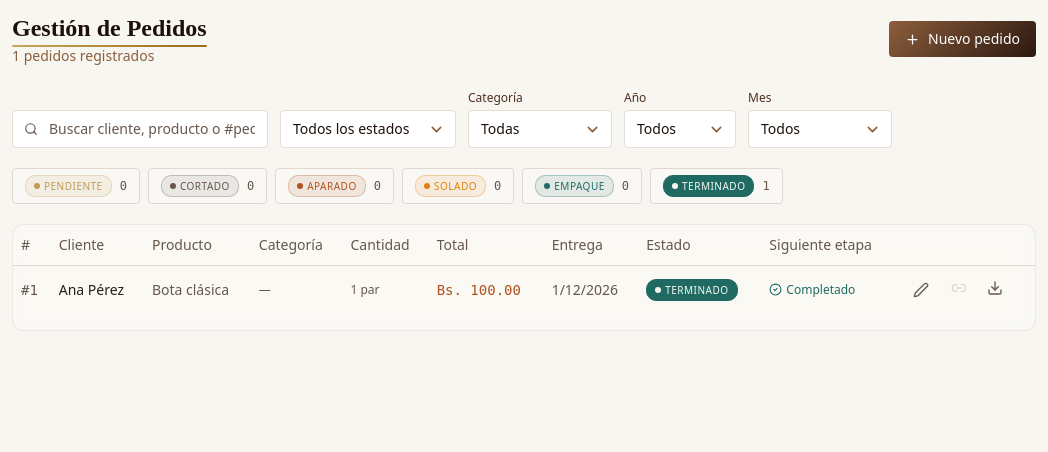
it: PedidosView — filtro por estado › los filtros de fecha por "fecha de entrega" solo aparecen para el estado Terminado
expect the text "#1" is shown: met, box [13,265,51,314]
expect the text "Filtrar por fecha de entrega:" is not shown: met
Click the button "Terminado 1". click: click(716, 186)
box: [650,168,783,204]
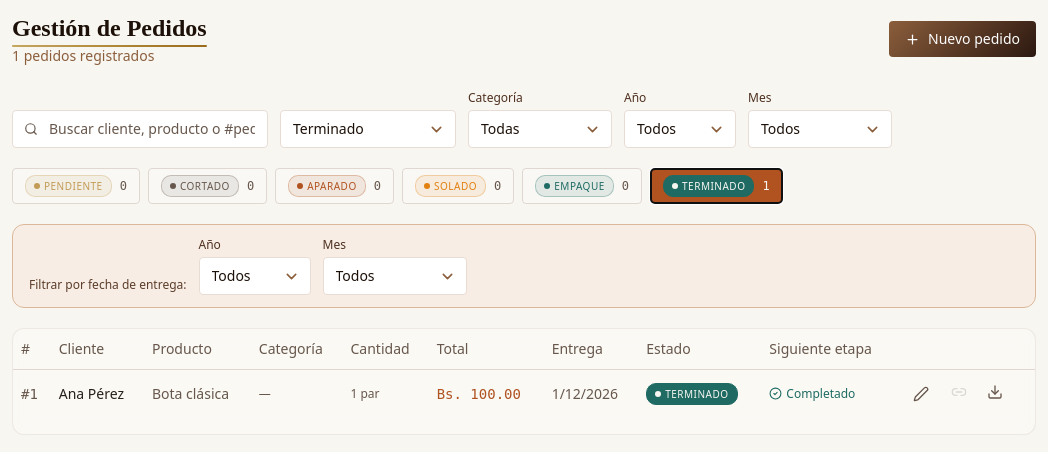
expect the text "Filtrar por fecha de entrega:" is shown: met, box [29,277,186,295]
